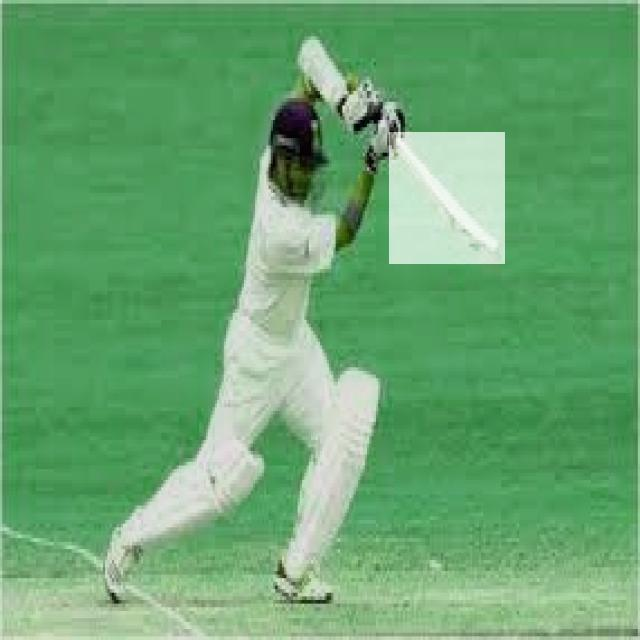bat: (390, 133, 505, 263)
toe: (485, 241, 505, 265)
